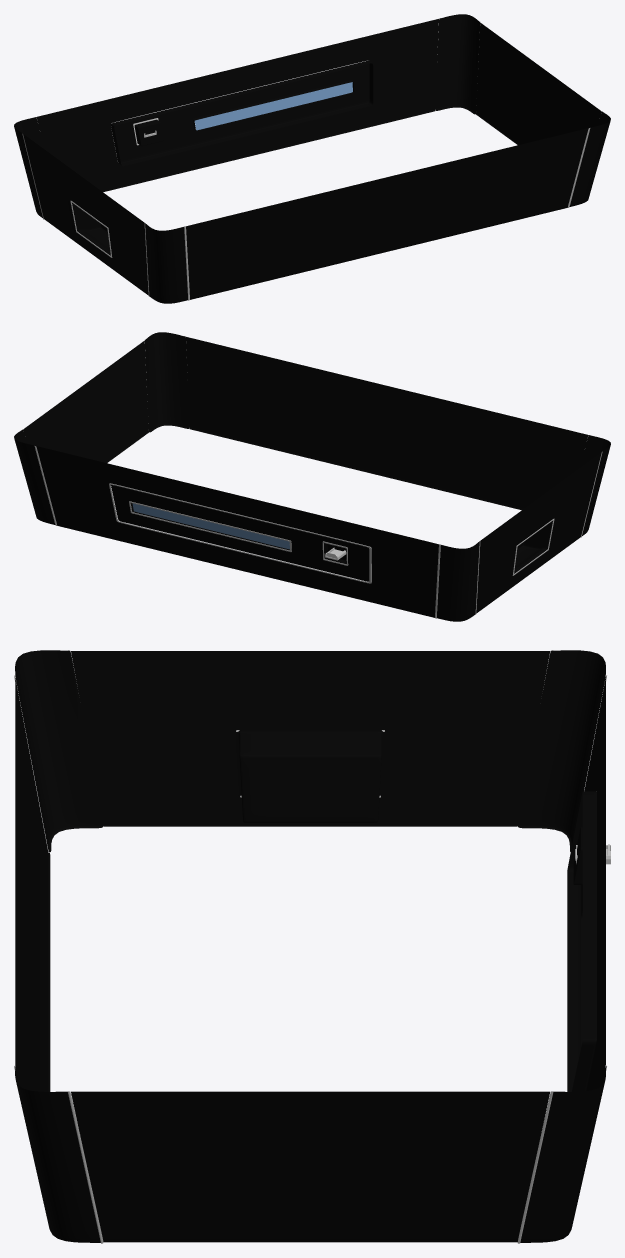
File: table_sides.obj
The picture shows the model from 3 angles, top to bottom: view 1: azimuth 30°, elevation 25°; view 2: azimuth 150°, elevation 25°; view 3: azimuth 270°, elevation 25°; orthographic projection. The views are drawn at different scales.
Parts seen in each view (by area): view 1: Table-sides_Plane.039, Side-drawer_Plane.043, Plane.008_Plane.038, Side-Glass_Plane.044, Chrome-trim1_Plane.041; view 2: Table-sides_Plane.039, Plane.008_Plane.038, Side-drawer_Plane.043, Drawer-trim_Plane.047, Side-Glass_Plane.044, Chrome-trim1_Plane.041; view 3: Table-sides_Plane.039, Plane.008_Plane.038, Side-drawer_Plane.043, Chrome-trim2_Plane.040.
Boxes of the visible parts, x1,y1,x2,y2 form: Table-sides_Plane.039: (23,19,601,299); Side-drawer_Plane.043: (111,60,373,166); Plane.008_Plane.038: (14,14,610,303); Side-Glass_Plane.044: (194,82,352,130); Chrome-trim1_Plane.041: (35,18,590,300); Table-sides_Plane.039: (23,337,601,617); Plane.008_Plane.038: (14,332,610,621); Side-drawer_Plane.043: (111,485,369,581); Drawer-trim_Plane.047: (109,483,371,583); Side-Glass_Plane.044: (132,503,289,549); Chrome-trim1_Plane.041: (34,336,589,618); Table-sides_Plane.039: (15,651,605,1242); Plane.008_Plane.038: (15,650,605,1242); Side-drawer_Plane.043: (567,791,596,1091); Chrome-trim2_Plane.040: (68,650,553,1243).
Size of the model in its own units: 2.5 by 0.4339 by 1.43.
